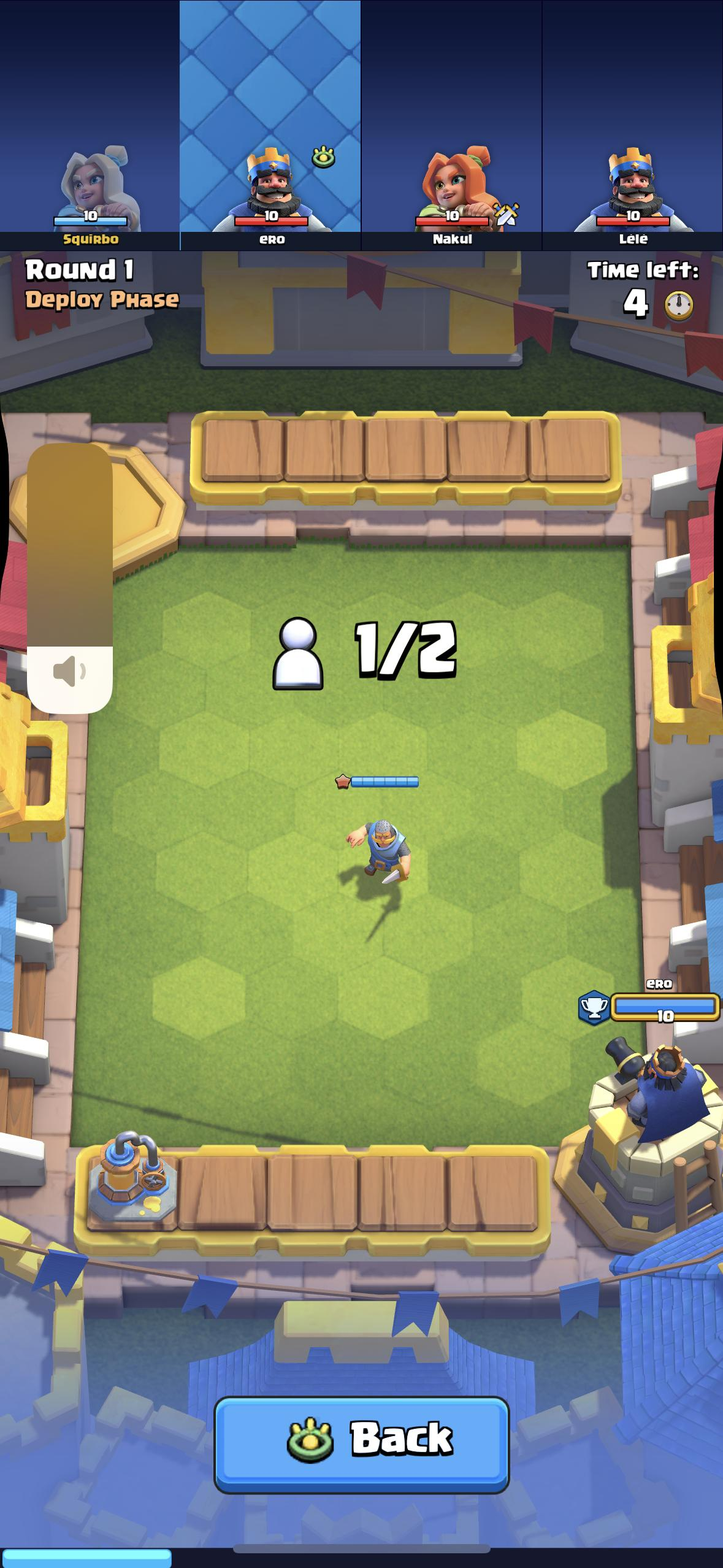collector: (85, 1137, 178, 1224)
knight: (344, 811, 415, 888)
